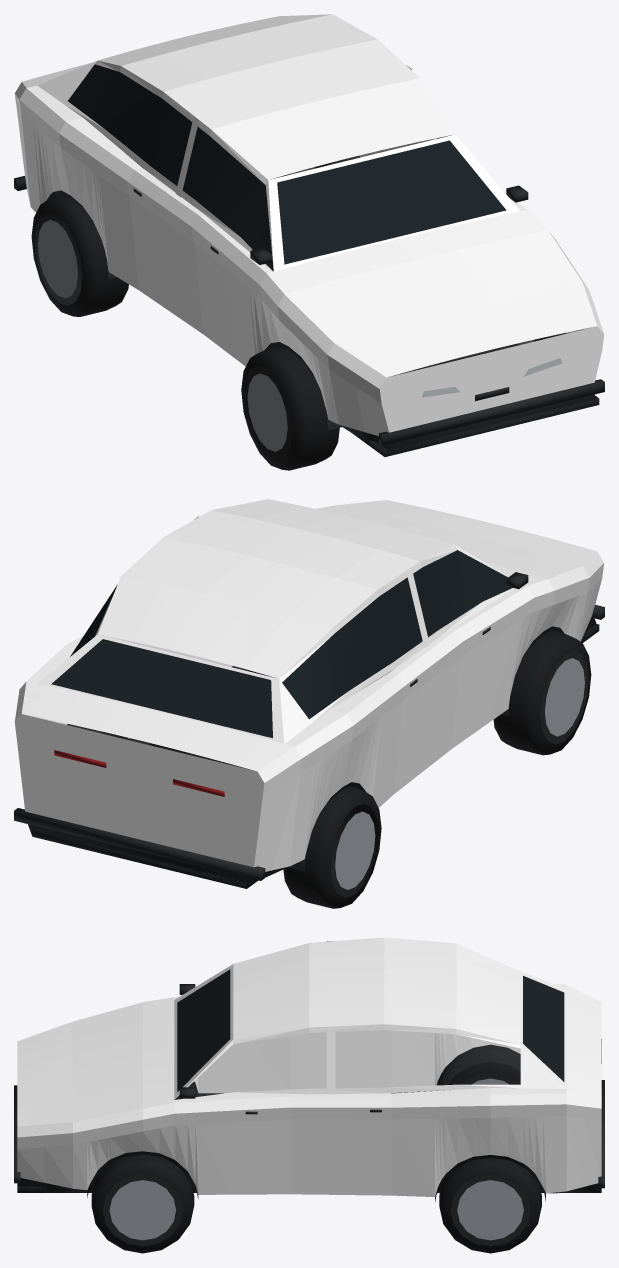
Rendered from ridgeway_atlas.glb.
3 views of the same model, one above another, from view 1: azimuth 30°, elevation 25°; view 2: azimuth 150°, elevation 25°; view 3: azimuth 270°, elevation 25° (orthographic). The views are drawn at different scales.
Parts seen in each view (by area): view 1: Body_Paint, Body_Details, Mount_FrontLeft_Wheel_Details, Mount_RearLeft_Wheel_Details; view 2: Body_Paint, Body_Details, Mount_FrontLeft_Wheel_Details, Mount_RearLeft_Wheel_Details; view 3: Body_Paint, Body_Details, Mount_FrontRight_Wheel_Details, Mount_RearRight_Wheel_Details, Mount_RearLeft_Wheel_Details.
Part boxes in pixels (box(x1,y1,x2,y2)): Body_Paint: box(14, 14, 604, 436); Body_Details: box(14, 64, 604, 456); Mount_FrontLeft_Wheel_Details: box(241, 346, 339, 470); Mount_RearLeft_Wheel_Details: box(31, 194, 128, 316); Body_Paint: box(14, 499, 604, 871); Body_Details: box(14, 550, 604, 888); Mount_FrontLeft_Wheel_Details: box(493, 631, 591, 755); Mount_RearLeft_Wheel_Details: box(283, 786, 381, 908); Body_Paint: box(17, 937, 601, 1197); Body_Details: box(14, 969, 604, 1202); Mount_FrontRight_Wheel_Details: box(91, 1154, 194, 1253); Mount_RearRight_Wheel_Details: box(439, 1158, 541, 1253); Mount_RearLeft_Wheel_Details: box(448, 1061, 520, 1090).
Bounding box in the file's own units: 2.36 × 1.99 × 4.89.
Materials: 2 (1 with a texture image).
